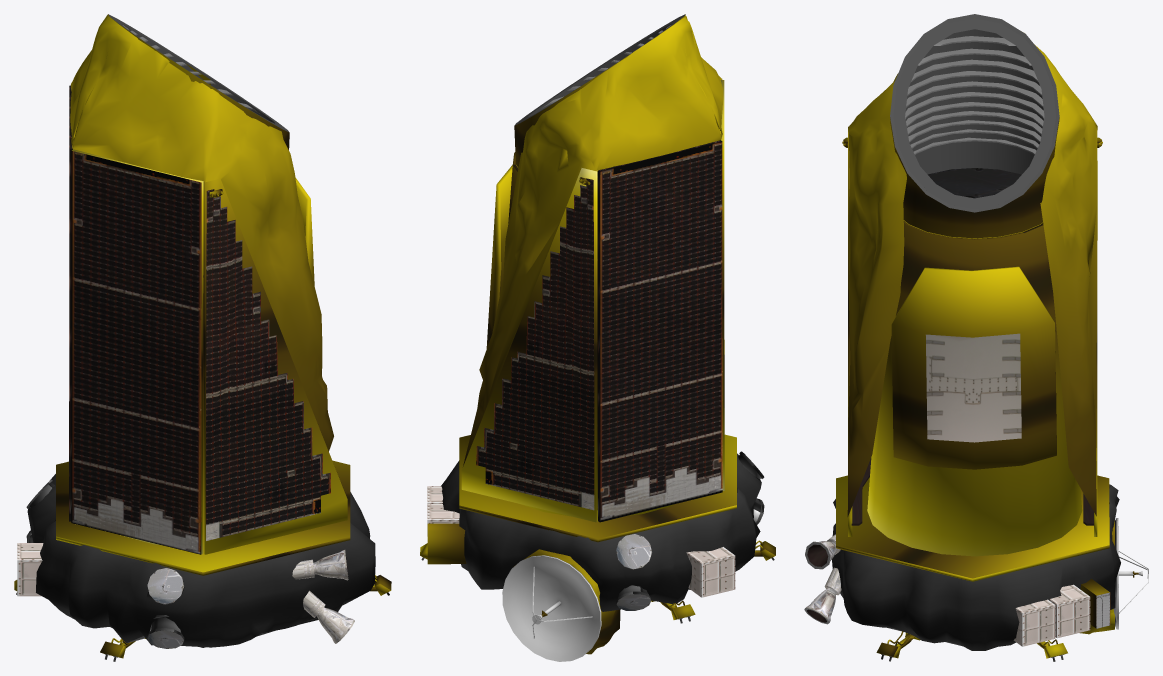
The model's file is Kepler - K2.glb.
3 renders of one model, left to right at view 1: azimuth 30°, elevation 25°; view 2: azimuth 150°, elevation 25°; view 3: azimuth 270°, elevation 25°, orthographic. The views are drawn at different scales.
Visible parts, largest first — view 1: shiny_panel, foil_gold, foil_silver, tex_01, tex_01.001; view 2: shiny_panel, foil_gold, foil_silver, dish_AO, tex_01, tex_01.001; view 3: foil_gold, tex_01, tex_01.001, foil_silver, dish_AO.
Part boxes in pixels (x1,y1,x2,y2): shiny_panel: (69,85,330,554); foil_gold: (14,14,391,658); foil_silver: (16,474,389,661); tex_01: (17,14,354,648); tex_01.001: (112,17,285,130); shiny_panel: (476,140,724,522); foil_gold: (420,14,775,654); foil_silver: (421,451,774,623); dish_AO: (502,555,601,661); tex_01: (427,14,735,610); tex_01.001: (518,17,681,123); foil_gold: (836,44,1138,658); tex_01: (804,14,1110,646); tex_01.001: (893,18,1056,208); foil_silver: (832,484,1120,661); dish_AO: (1113,518,1148,629).
Size of the model in its own units: 2.65 by 5.01 by 2.66.
6 materials, 6 textured.
